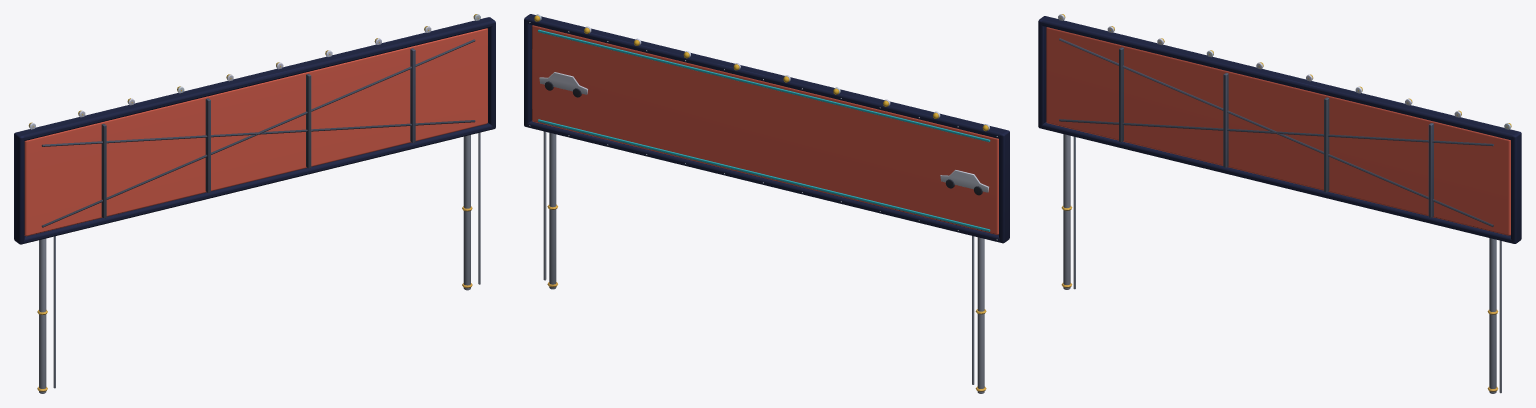
The model's file is SM_Dealer_SignGantry.fbx.
3 renders of one model, left to right at view 1: azimuth 30°, elevation 25°; view 2: azimuth 150°, elevation 25°; view 3: azimuth 330°, elevation 25°, orthographic.
Visible parts, largest first — view 1: SM_Dealer_SignGantry; view 2: SM_Dealer_SignGantry; view 3: SM_Dealer_SignGantry.
Part boxes in pixels (left/top/right/bottom): SM_Dealer_SignGantry: left=14, top=14, right=495, bottom=393; SM_Dealer_SignGantry: left=524, top=14, right=1009, bottom=393; SM_Dealer_SignGantry: left=1038, top=14, right=1521, bottom=393.
Size of the model in its own units: 1234 by 668 by 43.26.
